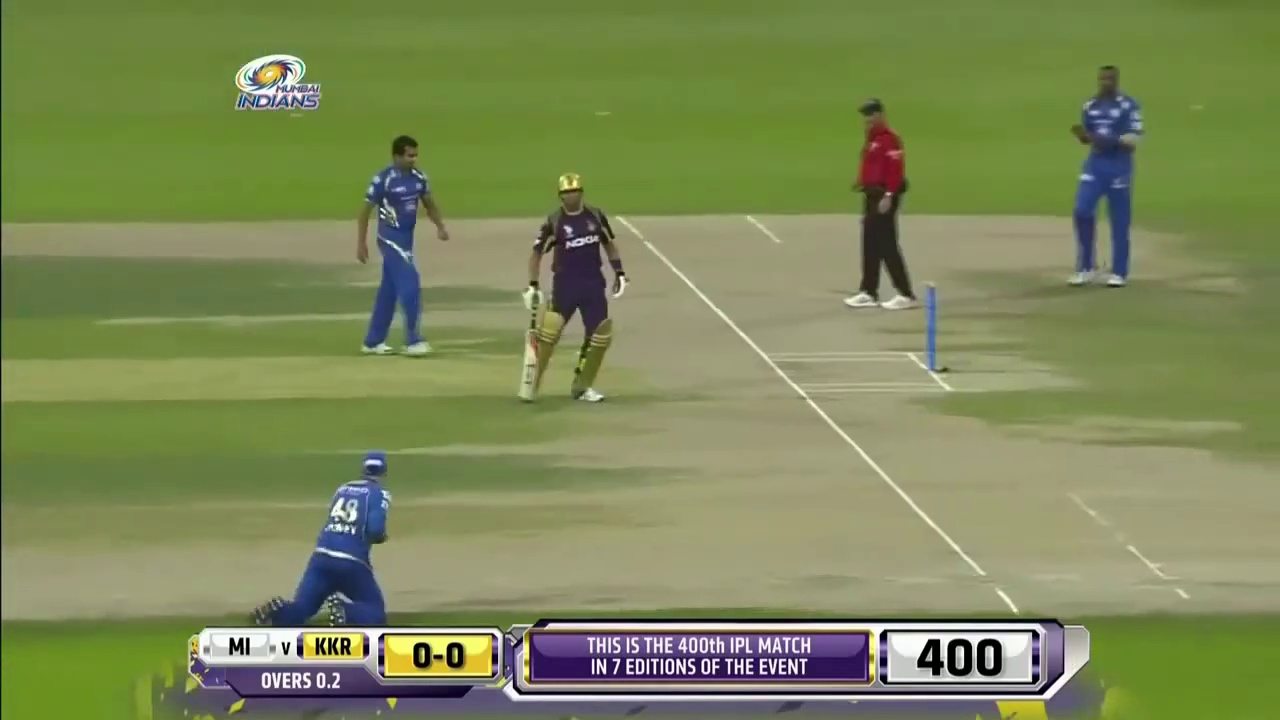bat: (519, 309, 539, 402)
